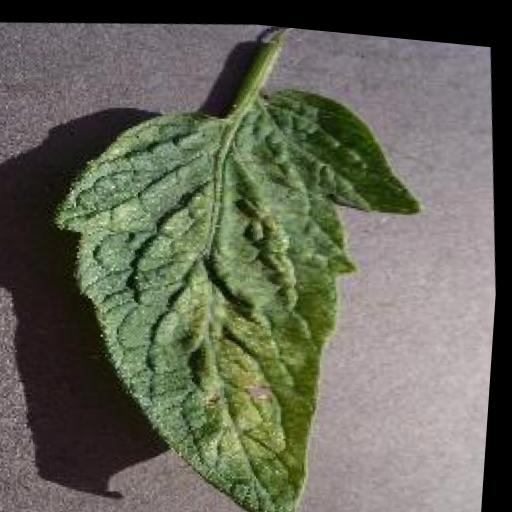Spider Mites: (32, 52, 456, 512)
